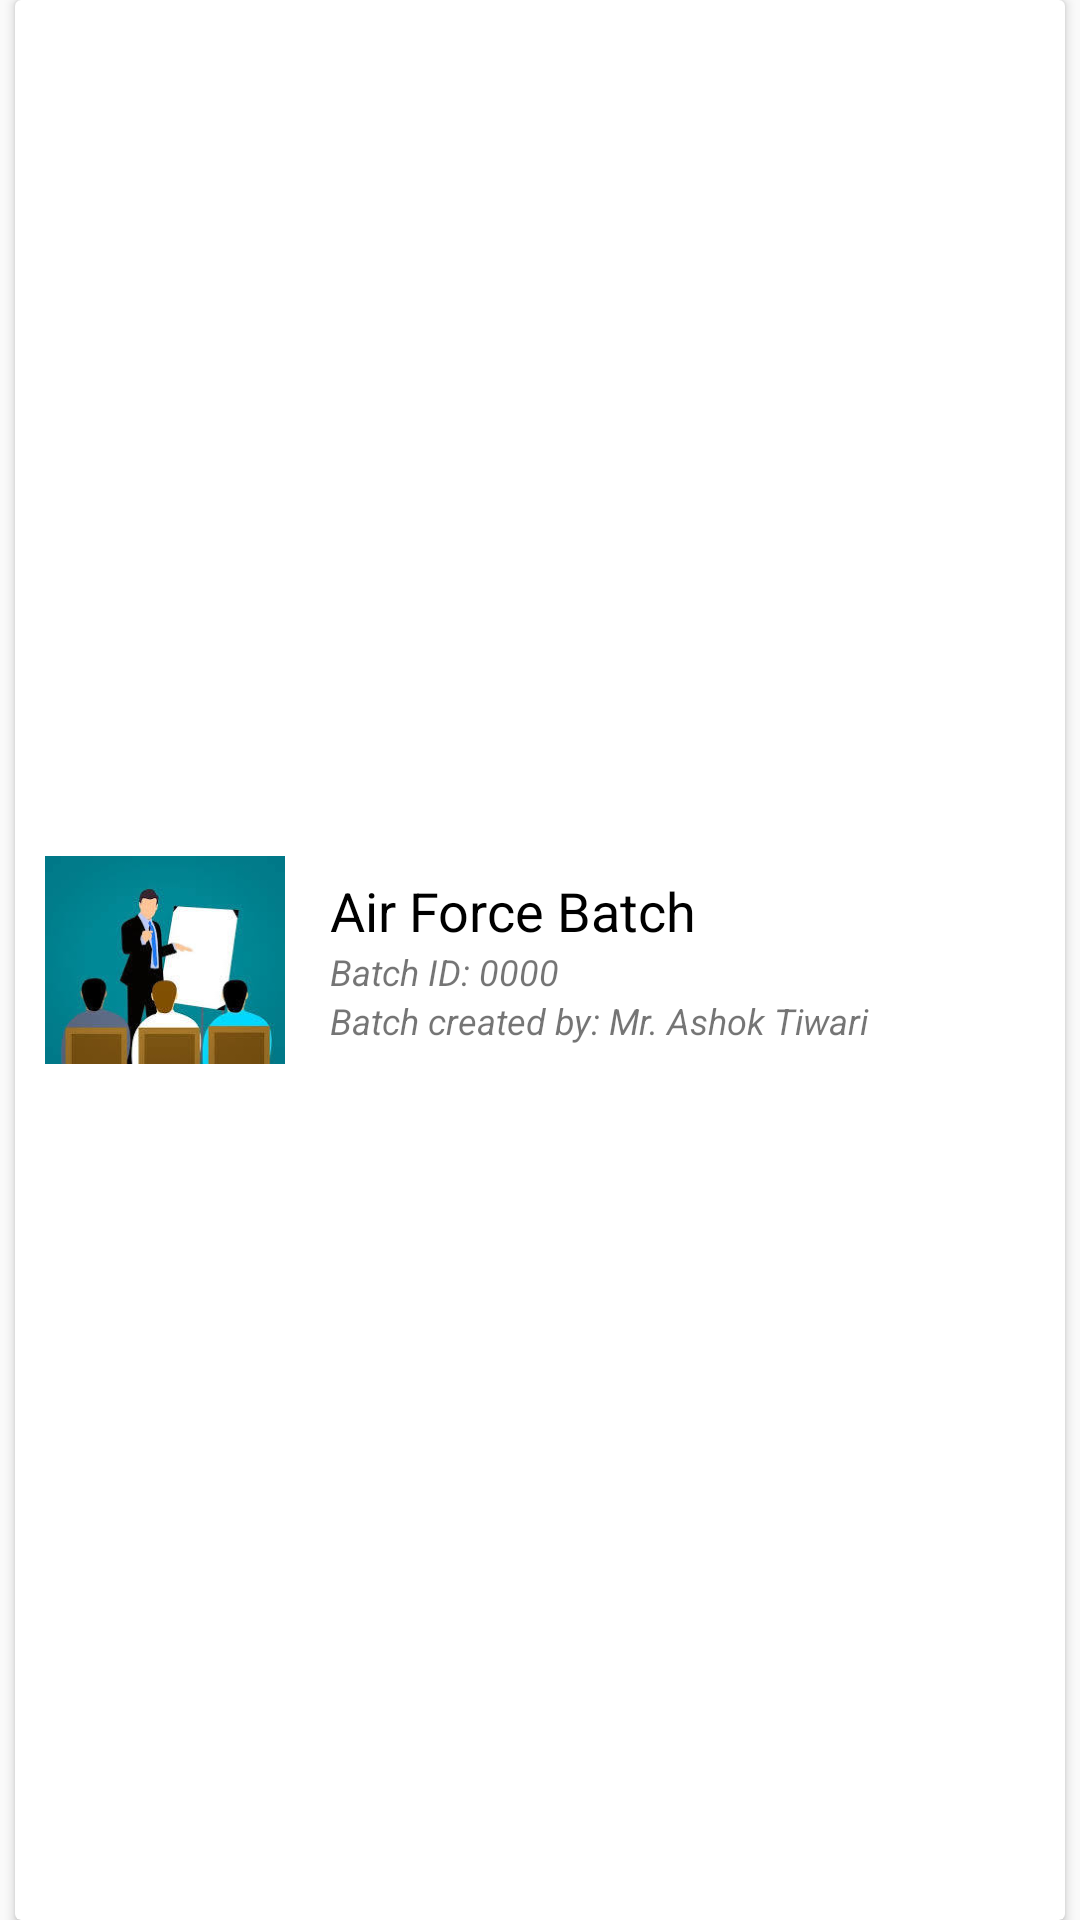

Where to tap for icons on this 1080px×1920px app screen, as [x,y]:
teacherteaching: [165,960]
